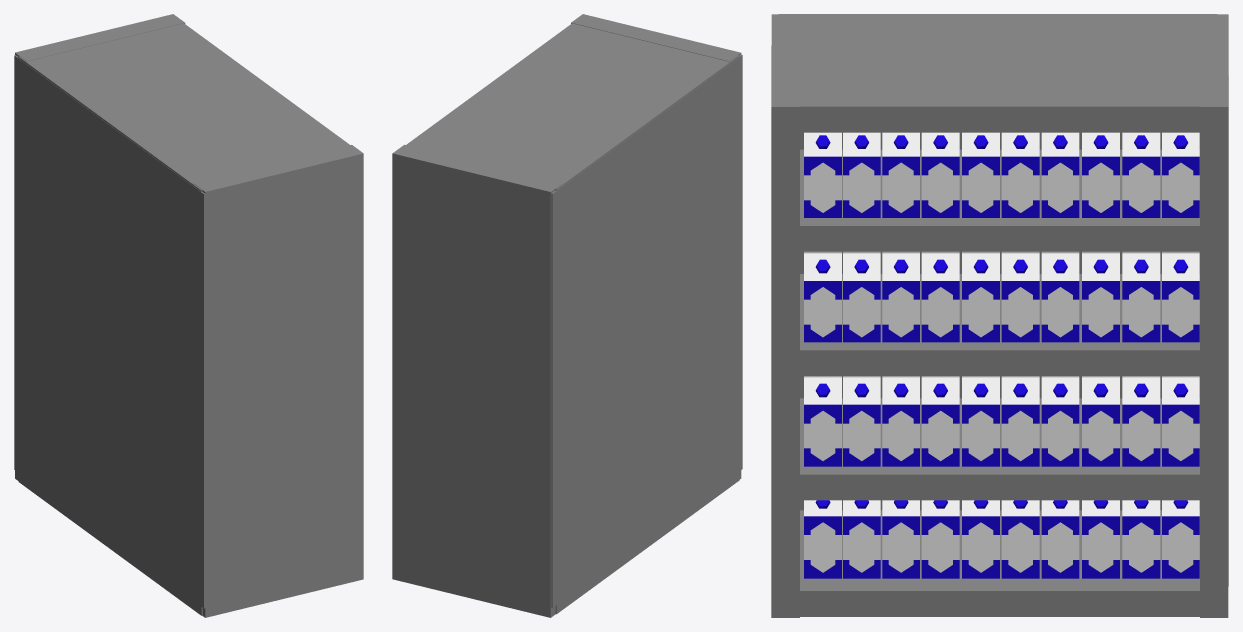
Rendered from full_milk_shelf.gltf.
3 views of the same model, side by side, from view 1: azimuth 30°, elevation 25°; view 2: azimuth 150°, elevation 25°; view 3: azimuth 270°, elevation 25° (orthographic). The views are drawn at different scales.
Visible parts, largest first — view 1: carton; view 2: carton; view 3: carton.
Part boxes in pixels (bbox=[...]): carton: bbox=[14, 14, 363, 617]; carton: bbox=[392, 14, 742, 617]; carton: bbox=[771, 14, 1228, 617].
Bounding box in the file's own units: 4.03 × 10.28 × 8.34.
